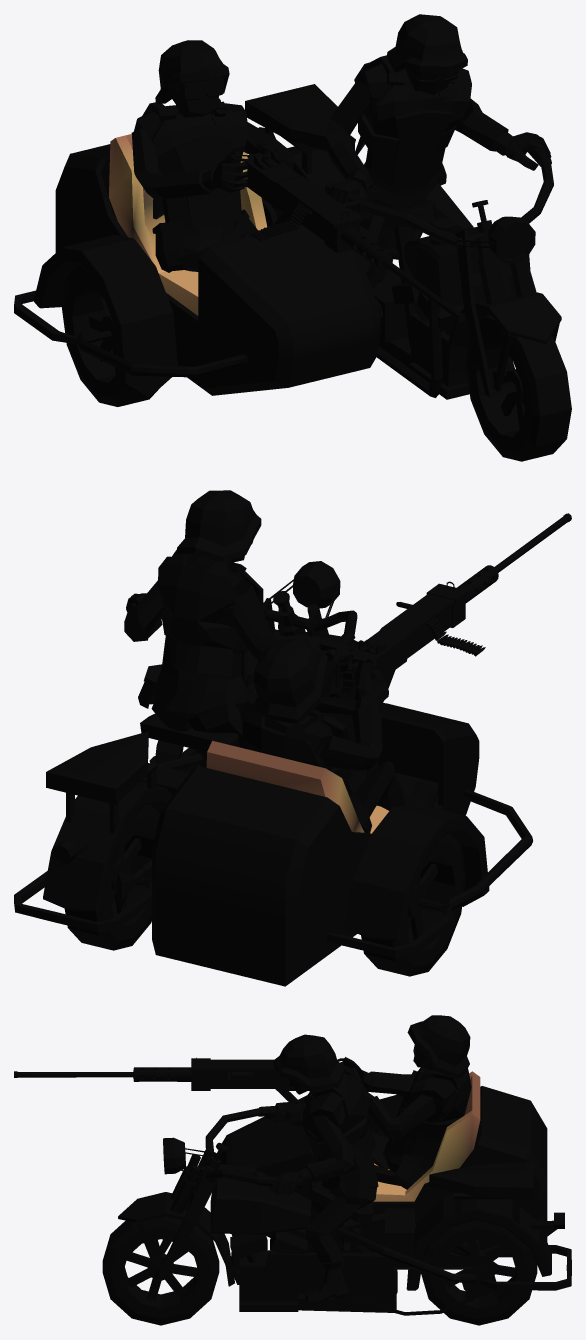
The model's file is moto.fbx.
The picture shows the model from 3 angles, top to bottom: view 1: azimuth 30°, elevation 25°; view 2: azimuth 150°, elevation 25°; view 3: azimuth 270°, elevation 25°; orthographic projection. The views are drawn at different scales.
Parts seen in each view (by area): view 1: moto; view 2: moto; view 3: moto.
Part boxes in pixels (<box>): moto: <box>14,14,571,461</box>; moto: <box>14,490,571,986</box>; moto: <box>14,1015,571,1325</box>.
Bounding box in the file's own units: 0.8422 × 0.7123 × 1.27.
